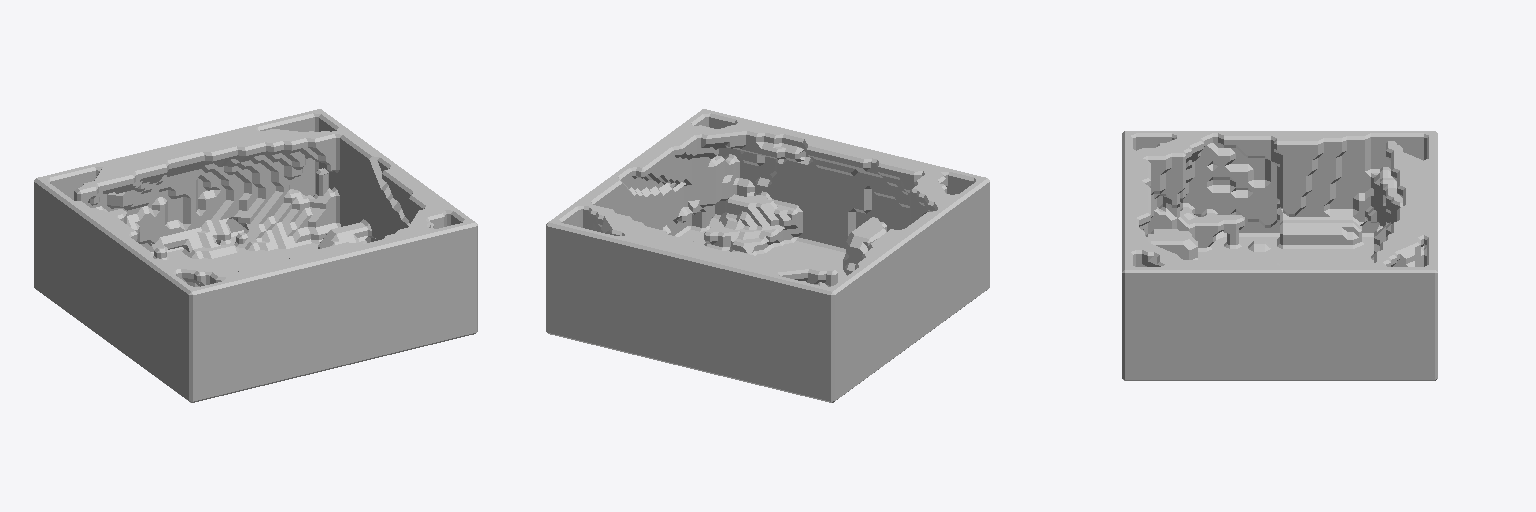
Rendered from Input_prediction_mesh.obj.
3 renders of one model, left to right at view 1: azimuth 30°, elevation 25°; view 2: azimuth 150°, elevation 25°; view 3: azimuth 270°, elevation 25°, orthographic.
Parts seen in each view (by area): view 1: mat0, mat1, mat5; view 2: mat0, mat1, mat3, mat5; view 3: mat0, mat1, mat3.
Part boxes in pixels (x1,y1,x2,y2): mat0: (34,128,477,402); mat1: (34,109,477,394); mat5: (107,187,170,259); mat0: (546,119,989,402); mat1: (546,109,989,395); mat3: (843,217,886,275); mat5: (694,292,754,321); mat0: (1122,131,1437,380); mat1: (1122,131,1437,373); mat3: (1146,215,1199,259).
Bounding box in the file's own units: 4.56 × 1.68 × 4.32.